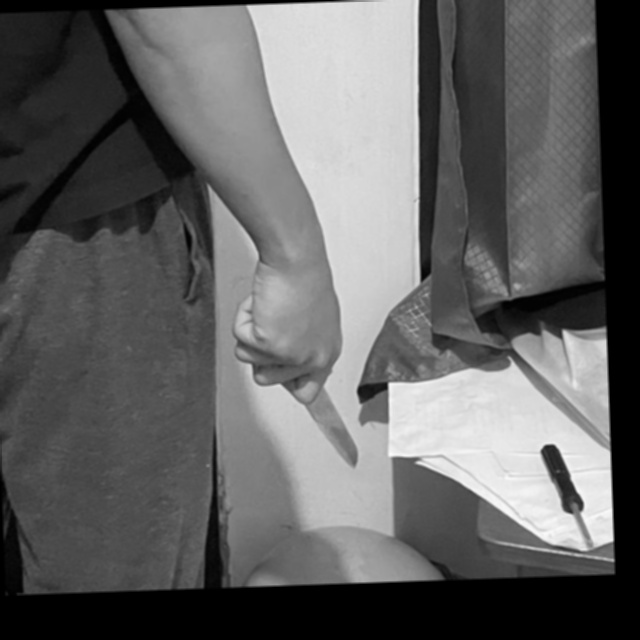Sharp-Object: (295, 372, 362, 473)
